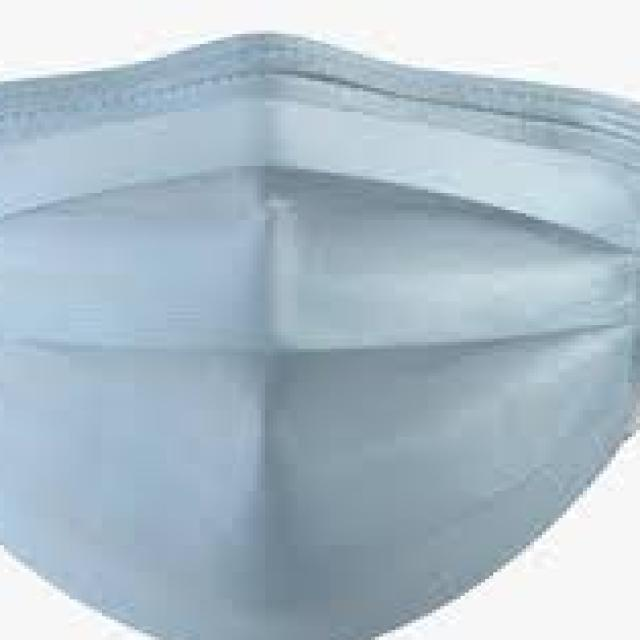organic: (7, 69, 617, 612)
